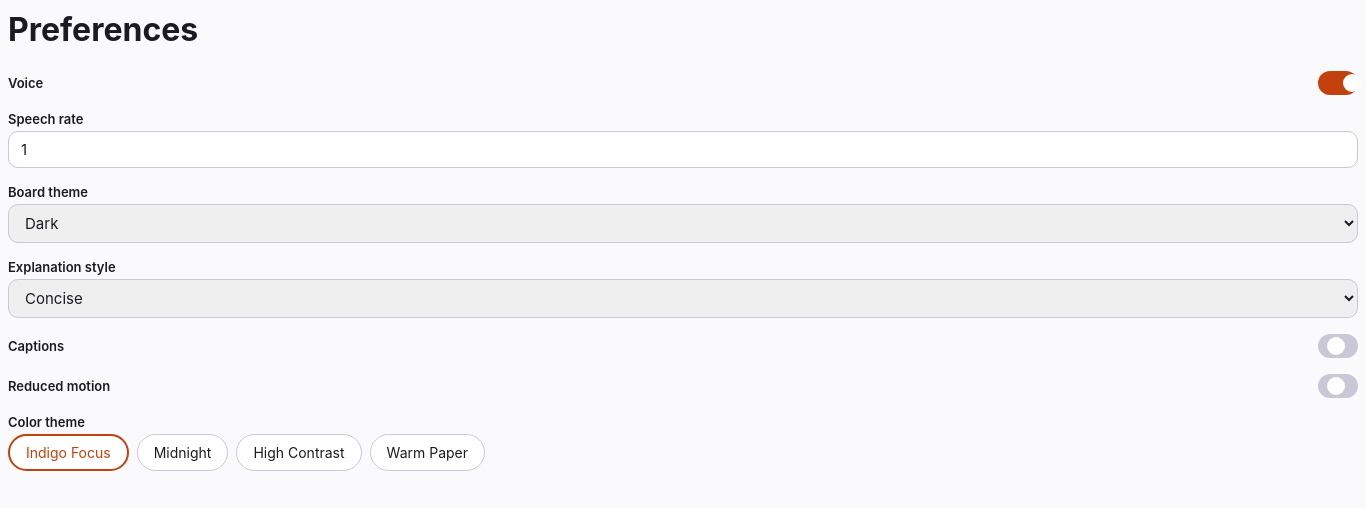
it: PreferencesPage › reverts an optimistic update and shows an inline error when a save fails, without losing other state
This screenshot has width=1366, height=508.
Step 1. Click the switch named "Voice" → (1338, 83), box [1318, 71, 1358, 95]
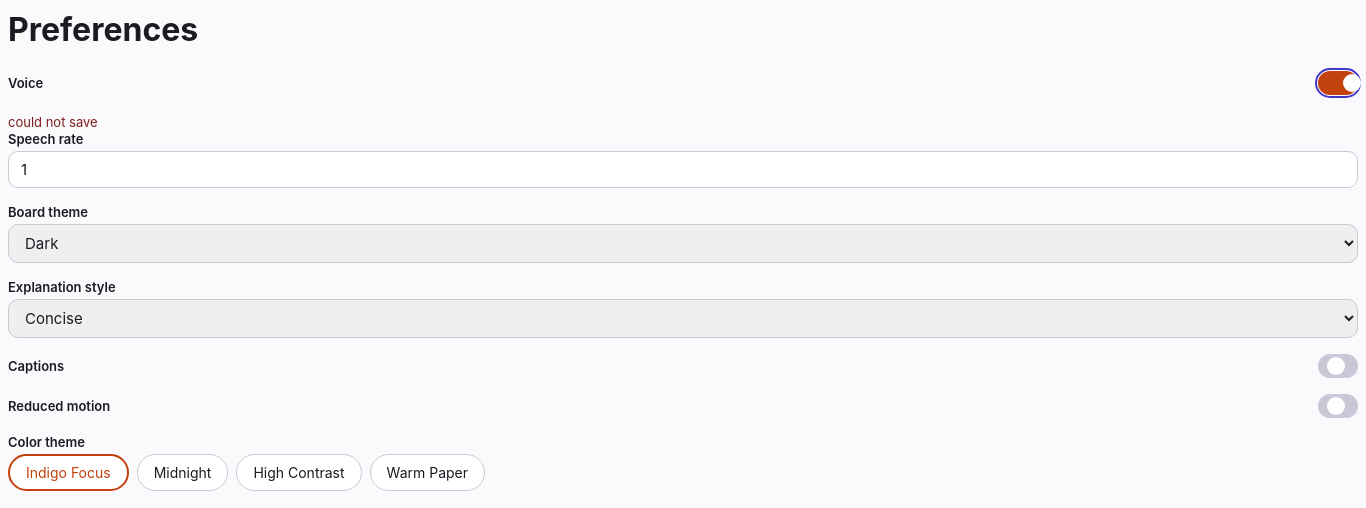
Expected: the text "could not save" is shown, [8, 114, 98, 130]
